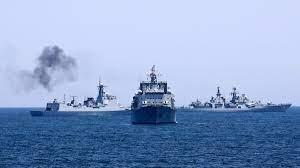MIL_Ship: (30, 80, 126, 116), (129, 64, 180, 124), (181, 85, 293, 112)
